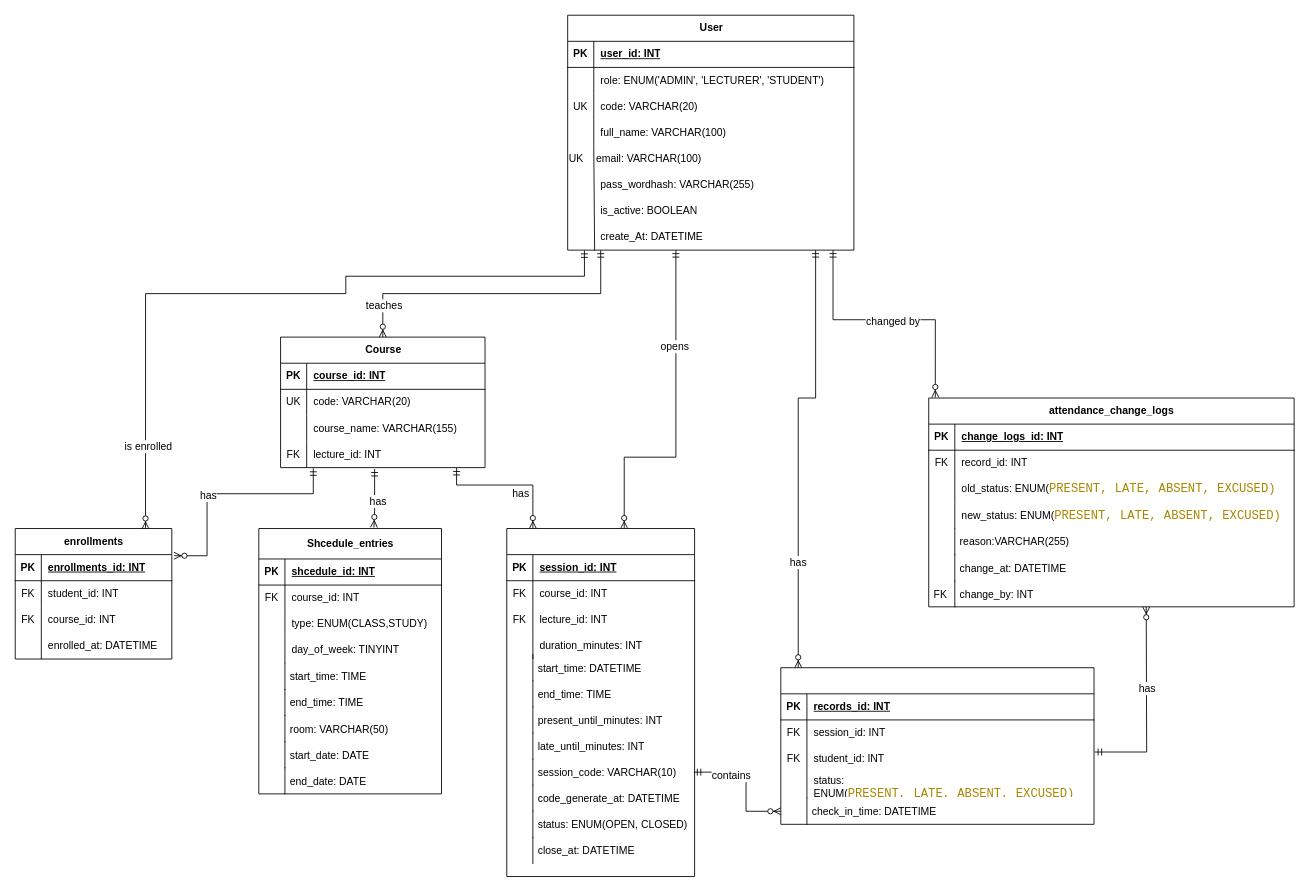
Some shapes in this 1309 by 892 pixel diagram are drawn without their labels. Here are the shapes that lost their labels. From the top down, the box of each, then its label:
(506, 528, 695, 877): attendance_session
(780, 667, 1094, 824): attendance_records
